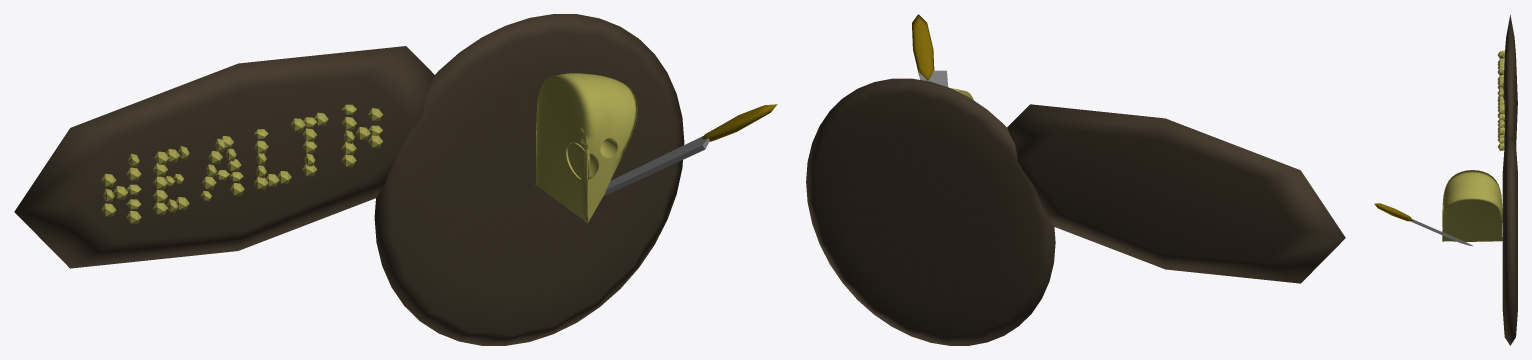
The model's file is 12.5prc_Health_Bar.fbx.
3 renders of one model, left to right at view 1: azimuth 30°, elevation 25°; view 2: azimuth 150°, elevation 25°; view 3: azimuth 270°, elevation 25°, orthographic. The views are drawn at different scales.
Parts seen in each view (by area): view 1: cheeseboard, pCube3, polySurface1, pCube1, pCube2; view 2: cheeseboard, pCube3, pCube2; view 3: polySurface1, cheeseboard, pCube3, pCube2, pCube1.
Part boxes in pixels (bbox=[...]): cheeseboard: bbox=[374, 14, 684, 345]; pCube3: bbox=[14, 46, 434, 268]; polySurface1: bbox=[535, 73, 637, 222]; pCube1: bbox=[603, 136, 709, 196]; pCube2: bbox=[701, 104, 777, 141]; cheeseboard: bbox=[806, 78, 1055, 345]; pCube3: bbox=[1007, 104, 1345, 283]; pCube2: bbox=[912, 14, 934, 80]; polySurface1: bbox=[1442, 170, 1502, 241]; cheeseboard: bbox=[1502, 137, 1517, 345]; pCube3: bbox=[1503, 15, 1517, 146]; pCube2: bbox=[1374, 203, 1413, 221]; pCube1: bbox=[1410, 219, 1473, 246].
Bounding box in the file's own units: 29.91 × 14.91 × 9.5.
